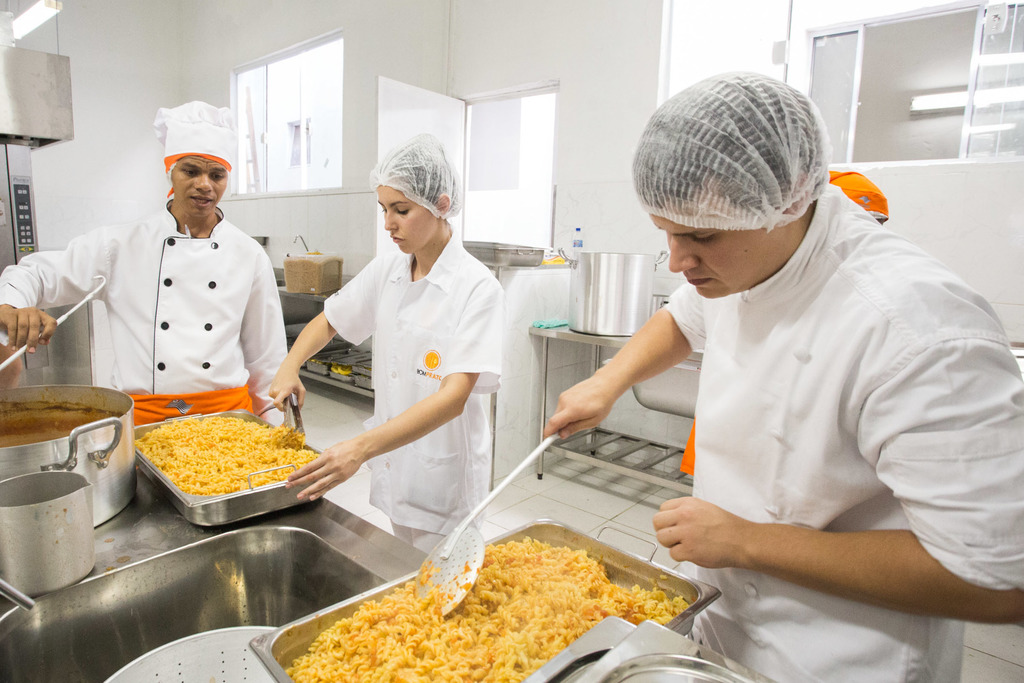Person: (543, 71, 1024, 682), (268, 134, 506, 559), (0, 104, 289, 435)
